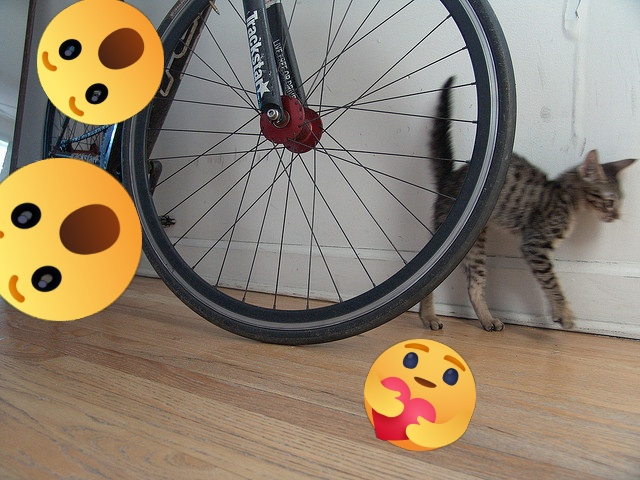care: (364, 339, 476, 451)
wow: (0, 158, 142, 321), (37, 0, 164, 125)
